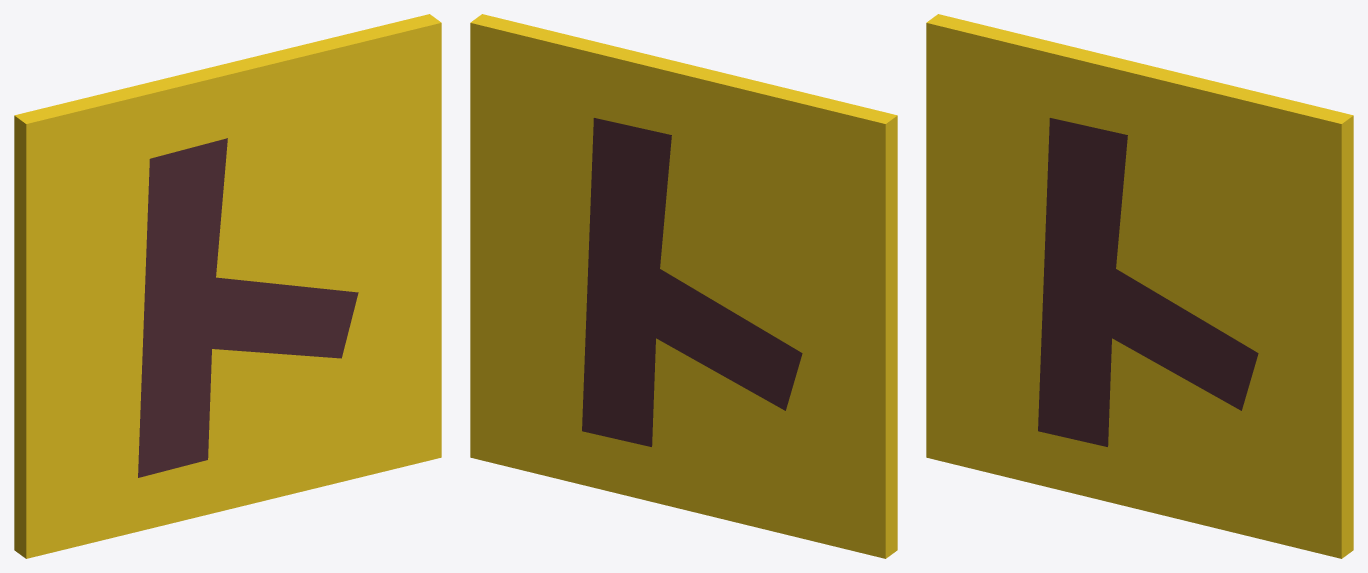
Rendered from scifi-sign-type-d.fbx.
3 renders of one model, left to right at view 1: azimuth 30°, elevation 25°; view 2: azimuth 150°, elevation 25°; view 3: azimuth 330°, elevation 25°, orthographic.
Parts seen in each view (by area): view 1: scifi-sign-type-d; view 2: scifi-sign-type-d; view 3: scifi-sign-type-d.
Boxes of the visible parts, x1,y1,x2,y2 form: scifi-sign-type-d: (14,14,441,558); scifi-sign-type-d: (470,14,897,558); scifi-sign-type-d: (926,14,1353,558).
Size of the model in its own units: 1 by 1 by 0.05.
